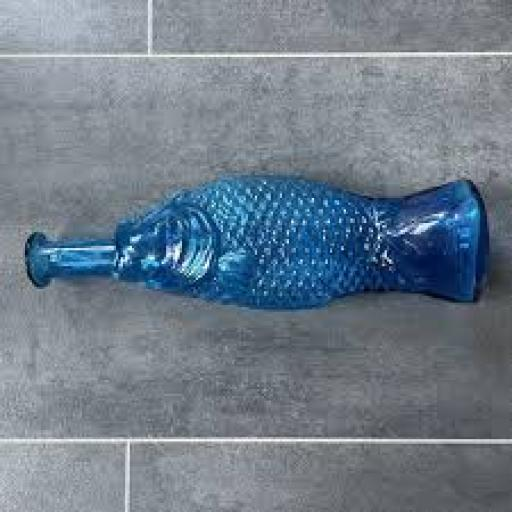blue-bottle: (25, 175, 487, 307)
